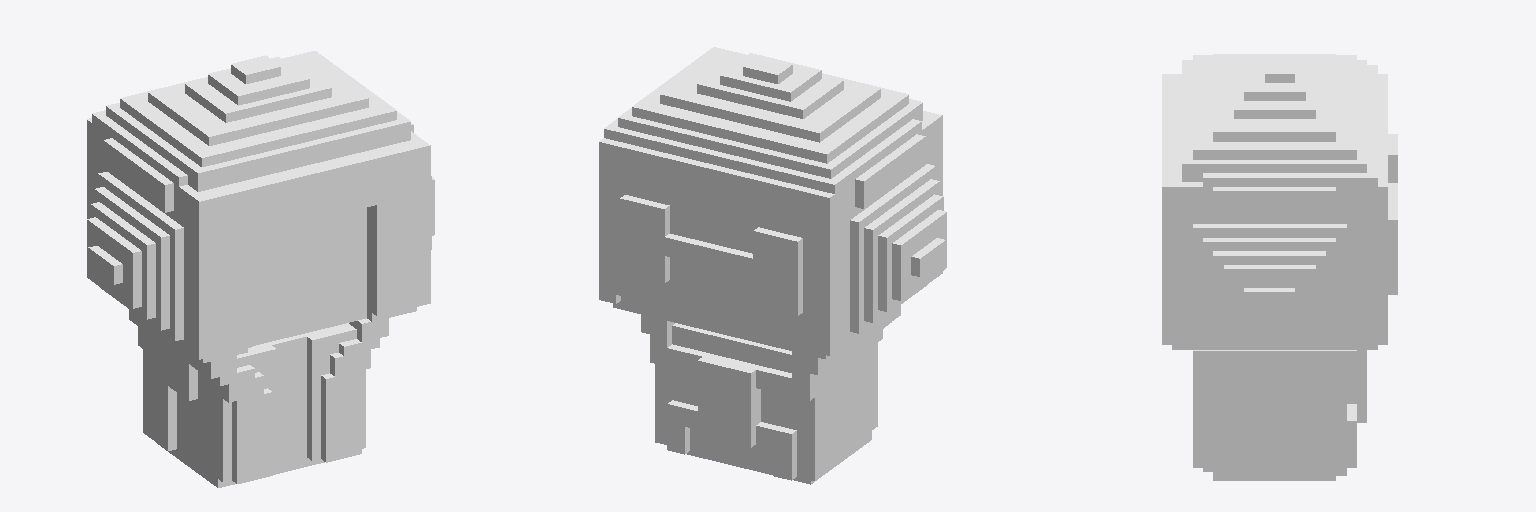
The model's file is Hero_Body_Head.obj.
3 views of the same model, side by side, from view 1: azimuth 30°, elevation 25°; view 2: azimuth 150°, elevation 25°; view 3: azimuth 270°, elevation 25° (orthographic).
Visible parts, largest first — view 1: object 1; view 2: object 1; view 3: object 1.
Boxes of the visible parts, <box> form: object 1: <box>87,51,434,487</box>; object 1: <box>599,47,946,484</box>; object 1: <box>1162,54,1397,480</box>.
Bounding box in the file's own units: 3.6 × 4.1 × 2.3.